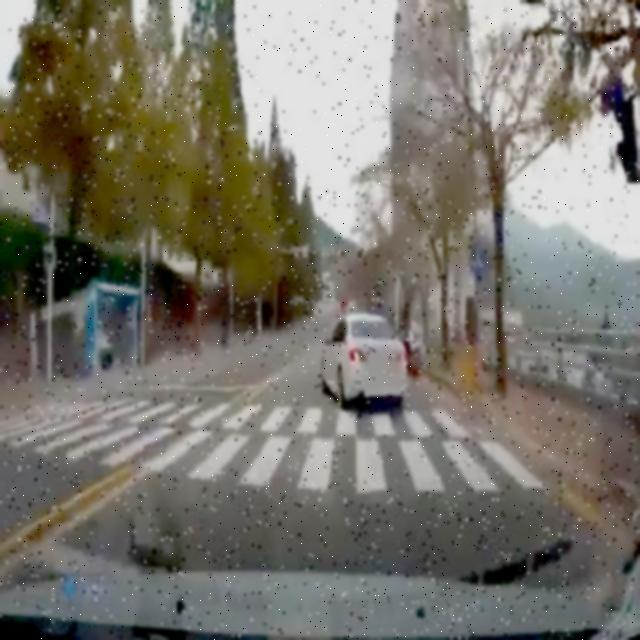crosswalk: (2, 393, 545, 530)
